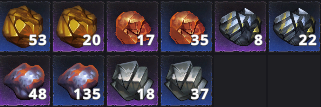aurelium ore: (53, 1, 103, 50), (1, 1, 49, 50)
copper ore: (108, 1, 157, 50), (162, 2, 210, 50)
iron ore: (54, 56, 103, 104), (1, 56, 48, 103)
silver ore: (108, 57, 156, 104), (162, 56, 210, 103)
tin ore: (270, 2, 319, 50), (217, 2, 265, 50)
